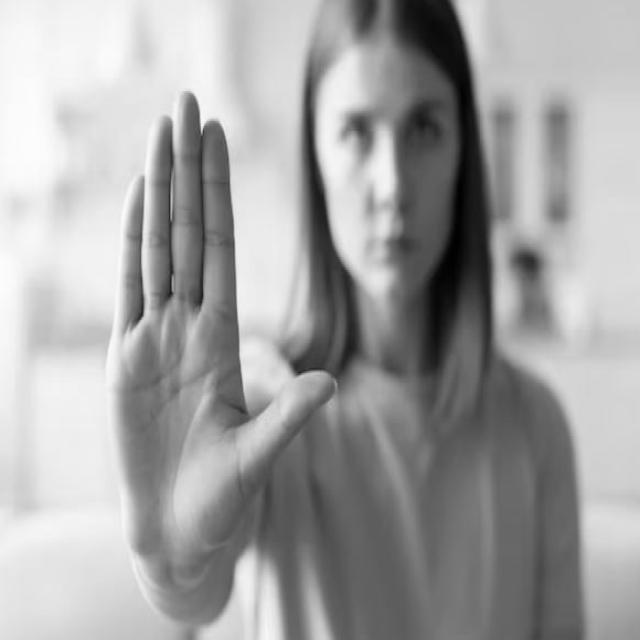stop: (99, 78, 343, 573)
